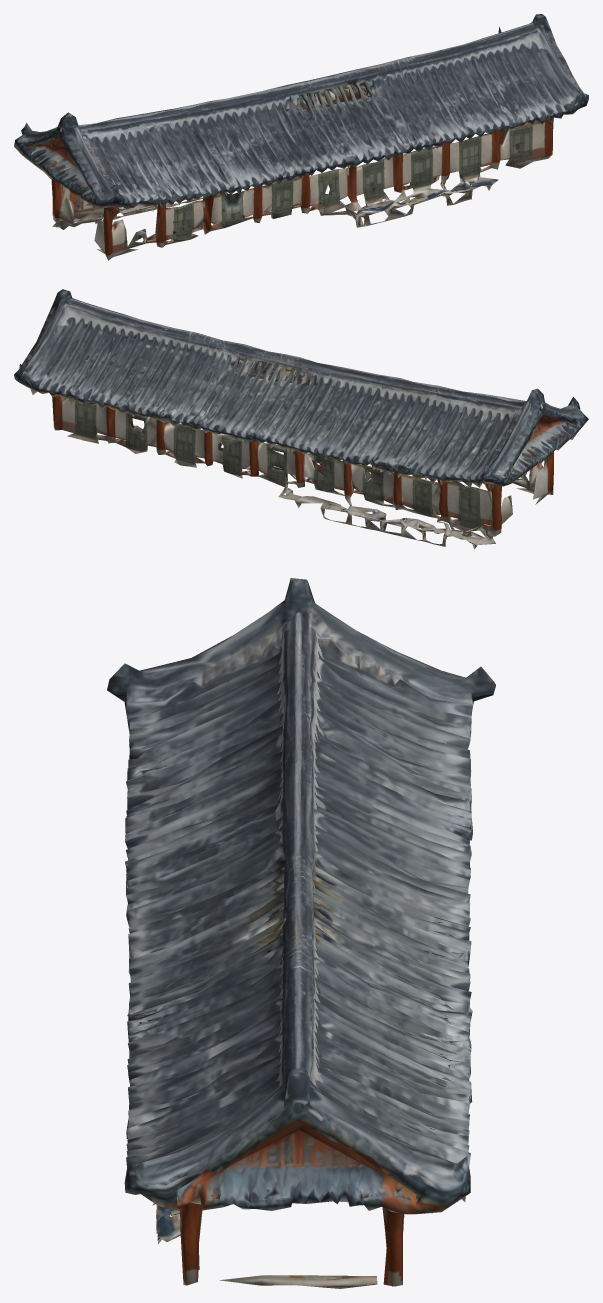
The model's file is PR_Haenggak_02.fbx.
The picture shows the model from 3 angles, top to bottom: view 1: azimuth 30°, elevation 25°; view 2: azimuth 150°, elevation 25°; view 3: azimuth 270°, elevation 25°; orthographic projection. The views are drawn at different scales.
Parts seen in each view (by area): view 1: texture_mapping; view 2: texture_mapping; view 3: texture_mapping.
Boxes of the visible parts, x1,y1,x2,y2 form: texture_mapping: (14, 14, 588, 260); texture_mapping: (14, 289, 588, 549); texture_mapping: (107, 578, 495, 1288).
Bounding box in the file's own units: 0.9877 × 0.3376 × 0.2874.
Materials: 1 (1 with a texture image).
